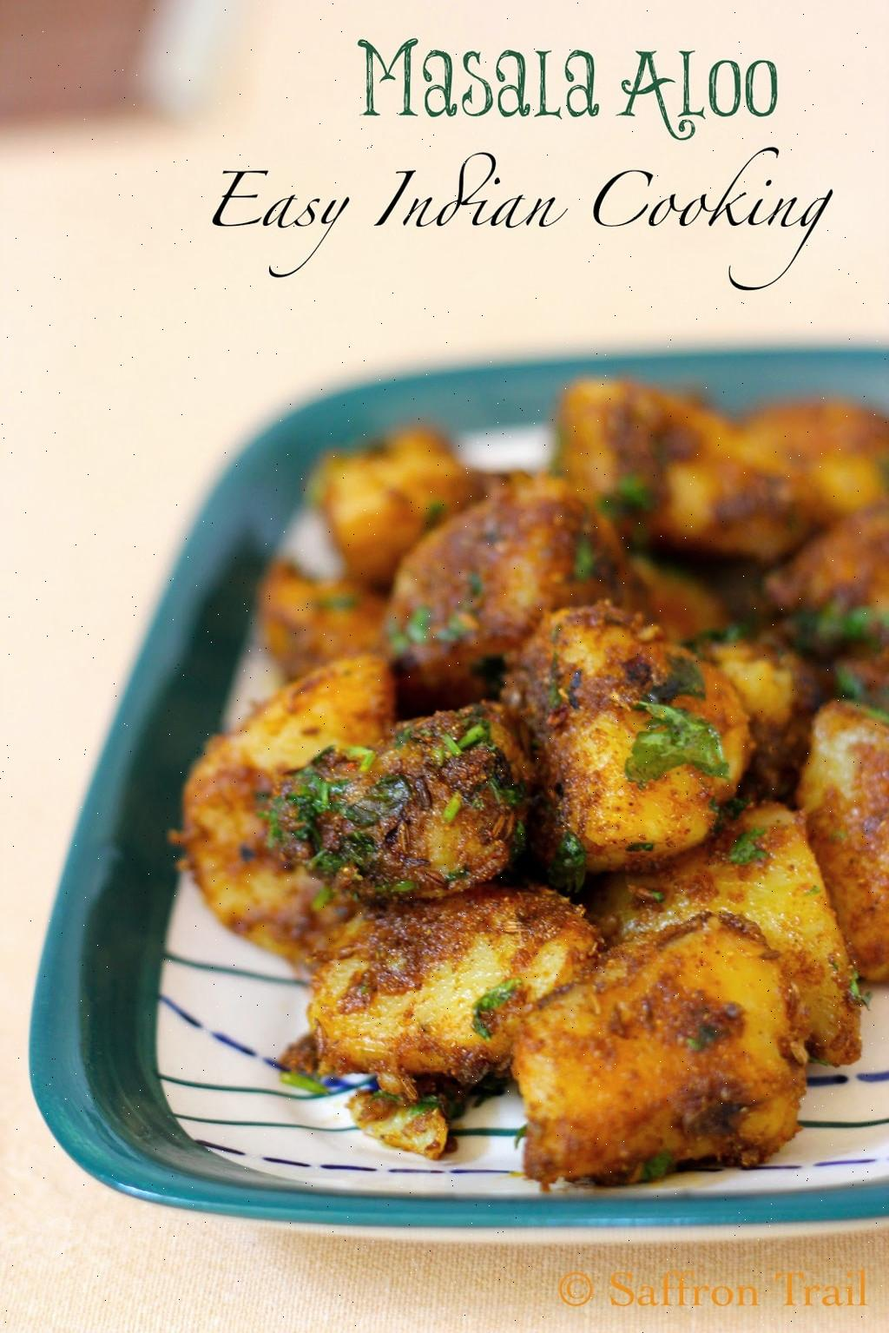aloo sabji: (232, 392, 889, 1181)
